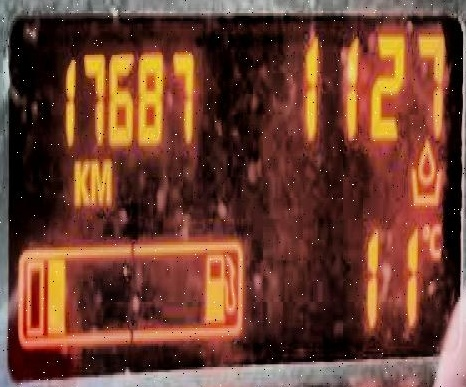1: (301, 23, 324, 143), (359, 216, 381, 335), (342, 23, 363, 143), (60, 39, 77, 148), (402, 221, 418, 330)
2: (369, 23, 406, 143)
6: (108, 44, 135, 145)
7: (415, 28, 449, 138), (170, 39, 199, 143), (81, 44, 106, 143)
8: (136, 44, 165, 145)
X: (90, 153, 110, 208), (71, 153, 90, 208), (428, 211, 443, 263)
